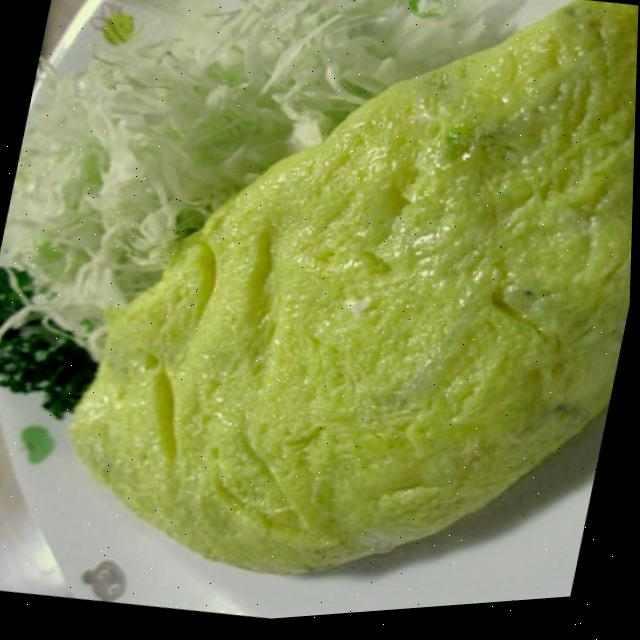鸡蛋料理: (16, 0, 640, 631)
